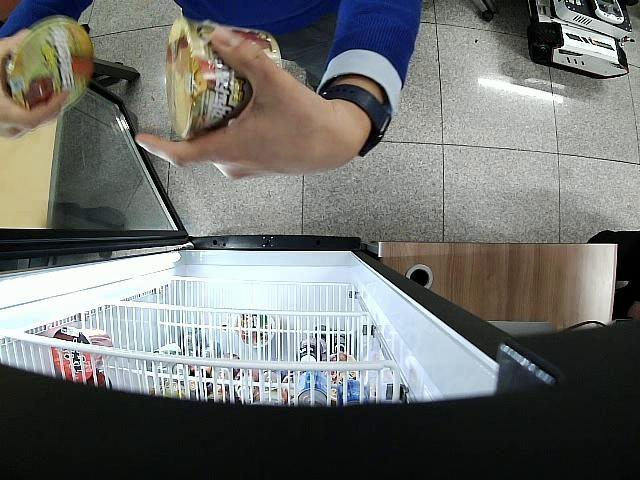04_chapagetti_S: (165, 15, 282, 140), (4, 16, 92, 112)
